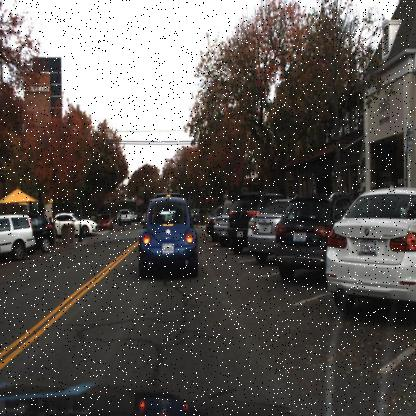car: (326, 182, 415, 310), (274, 190, 352, 280), (137, 196, 201, 282), (246, 196, 294, 267), (228, 191, 274, 253), (0, 213, 36, 262), (49, 210, 97, 237), (32, 210, 54, 256), (212, 208, 233, 244), (96, 209, 114, 233), (115, 206, 134, 227)
